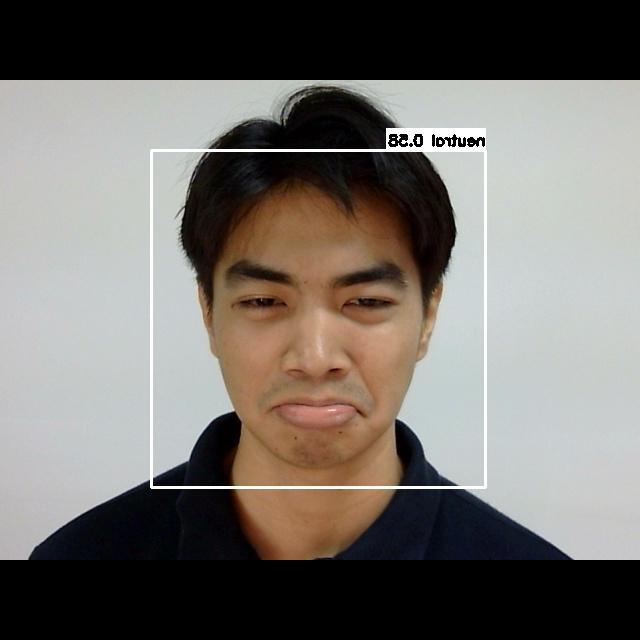Sad: (191, 224, 430, 451)
